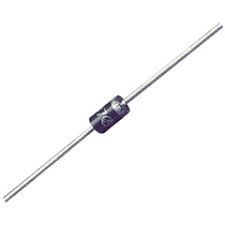diode: (45, 58, 149, 149)
